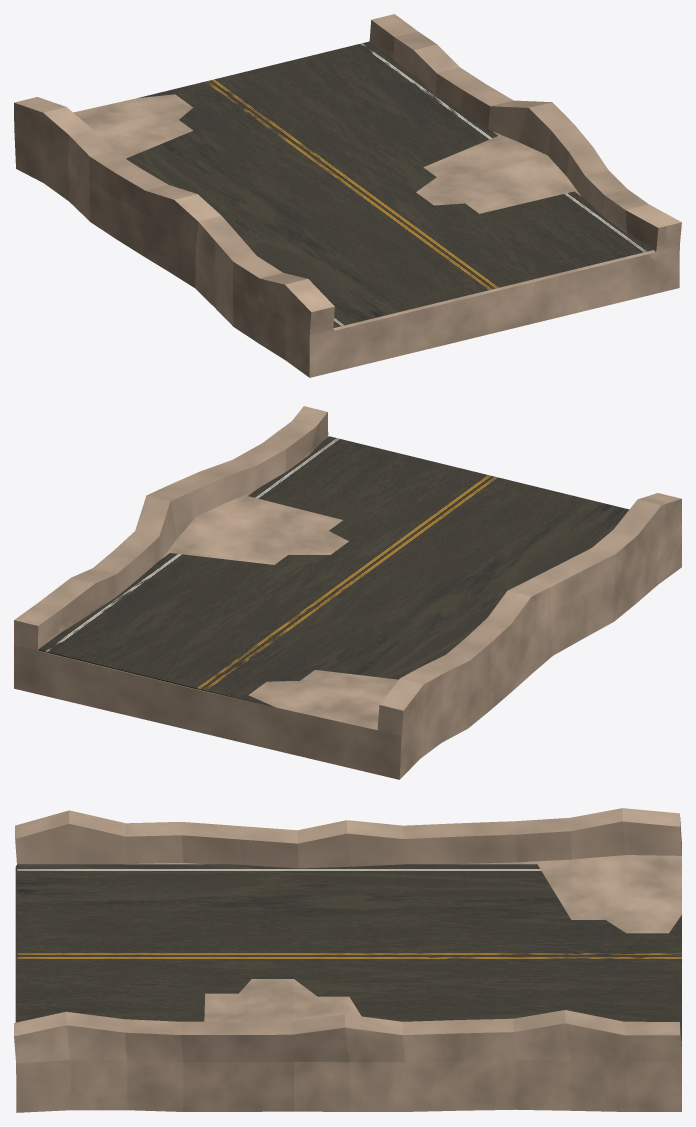
Rendered from Road_Tile_Bumped.fbx.
3 renders of one model, top to bottom at view 1: azimuth 30°, elevation 25°; view 2: azimuth 150°, elevation 25°; view 3: azimuth 270°, elevation 25°, orthographic. The views are drawn at different scales.
Visible parts, largest first — view 1: Road.001, Road_Tile_HigherPoly; view 2: Road.001, Road_Tile_HigherPoly; view 3: Road_Tile_HigherPoly, Road.001.
Boxes of the visible parts, x1=… form: Road.001: x1=126, y1=41, x2=654, y2=330; Road_Tile_HigherPoly: x1=14, y1=14, x2=681, y2=377; Road.001: x1=38, y1=436, x2=629, y2=707; Road_Tile_HigherPoly: x1=14, y1=406, x2=681, y2=779; Road_Tile_HigherPoly: x1=14, y1=808, x2=681, y2=1112; Road.001: x1=15, y1=864, x2=681, y2=1046.
Size of the model in its own units: 422 by 81.17 by 529.
Materials: 1 (1 with a texture image).
